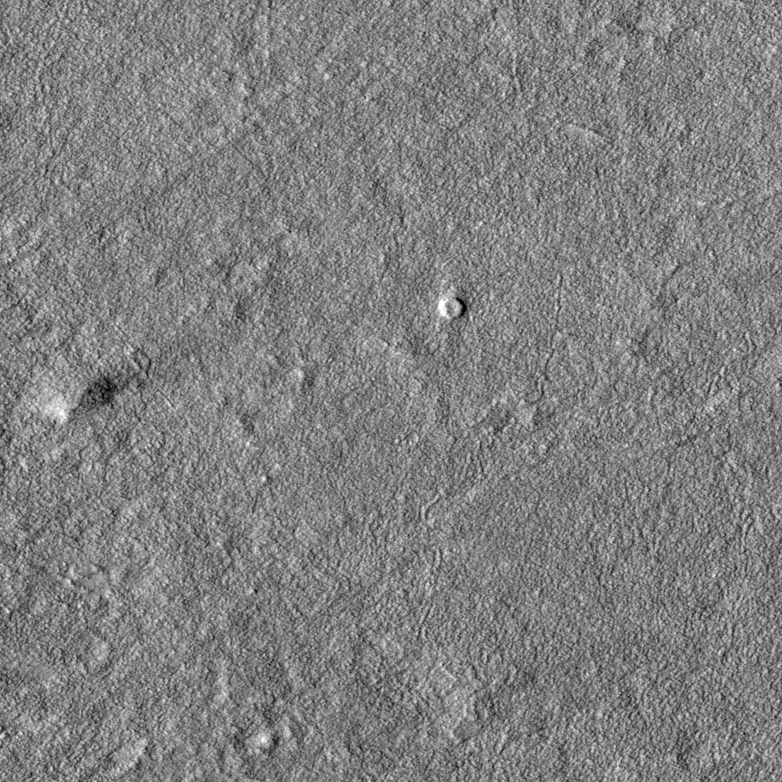dust_devil: (42, 373, 119, 424)
